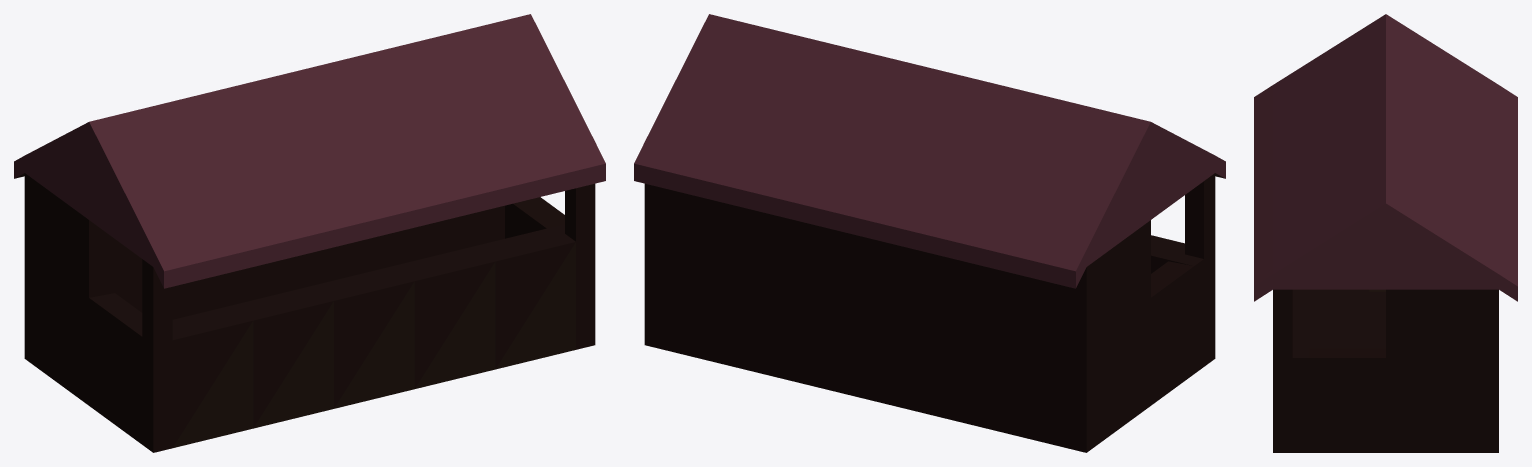
File: shop_1.fbx
The picture shows the model from 3 angles, left to right: view 1: azimuth 30°, elevation 25°; view 2: azimuth 150°, elevation 25°; view 3: azimuth 270°, elevation 25°; orthographic projection. The views are drawn at different scales.
Parts seen in each view (by area): view 1: Cube.010; view 2: Cube.010; view 3: Cube.010.
Part boxes in pixels (x1,y1,x2,y2): Cube.010: (14, 14, 605, 452); Cube.010: (634, 14, 1225, 452); Cube.010: (1254, 14, 1517, 452).
Size of the model in its own units: 1203 by 753 by 708.
